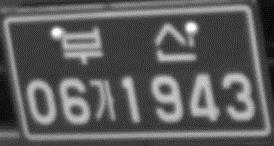0: (24, 74, 58, 125)
1: (117, 73, 144, 125)
3: (222, 69, 257, 123)
4: (187, 71, 222, 123)
6: (57, 76, 92, 127)
9: (151, 72, 185, 123)
가: (92, 78, 118, 123)
부산_D: (59, 19, 197, 68)
